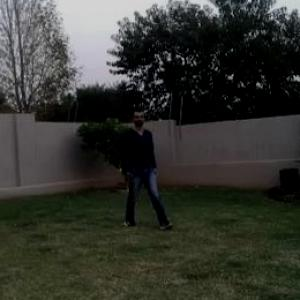follow: (122, 102, 157, 222)
